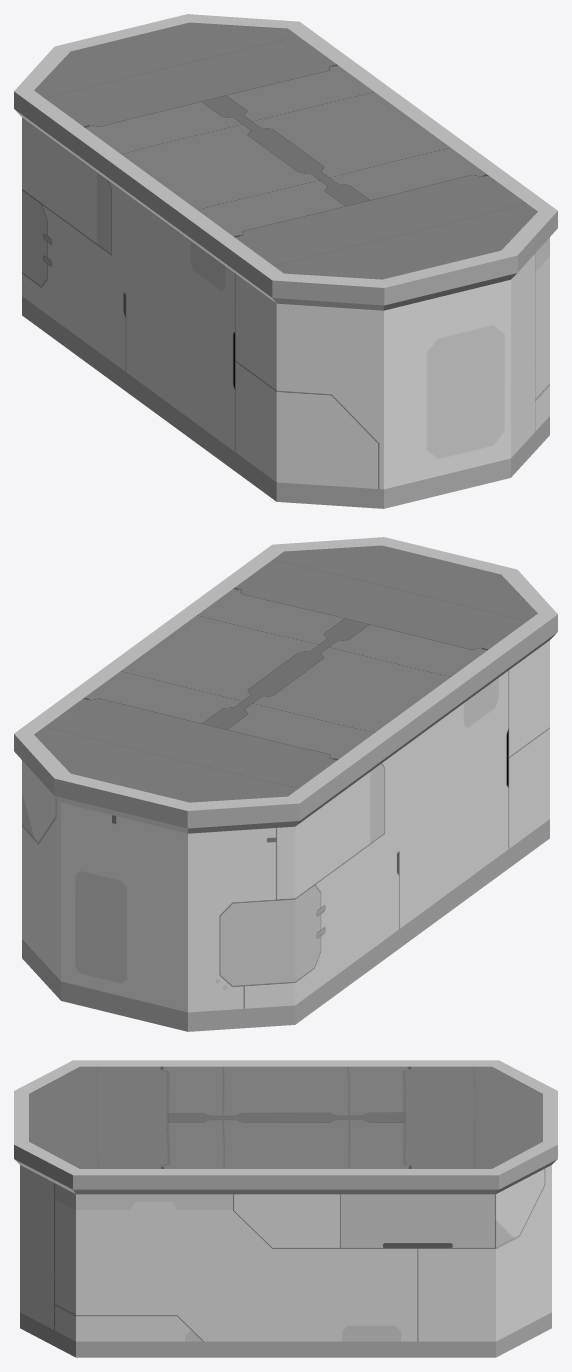
File: SM_Platform_2x4_1.fbx
3 views of the same model, one above another, from view 1: azimuth 30°, elevation 25°; view 2: azimuth 150°, elevation 25°; view 3: azimuth 270°, elevation 25° (orthographic). The views are drawn at different scales.
Visible parts, largest first — view 1: SM_Platform_2x4_1; view 2: SM_Platform_2x4_1; view 3: SM_Platform_2x4_1.
Part boxes in pixels (x1,y1,x2,y2): SM_Platform_2x4_1: (14, 14, 557, 508); SM_Platform_2x4_1: (14, 537, 557, 1031); SM_Platform_2x4_1: (14, 1060, 557, 1357).
Size of the model in its own units: 200 by 150 by 400.
